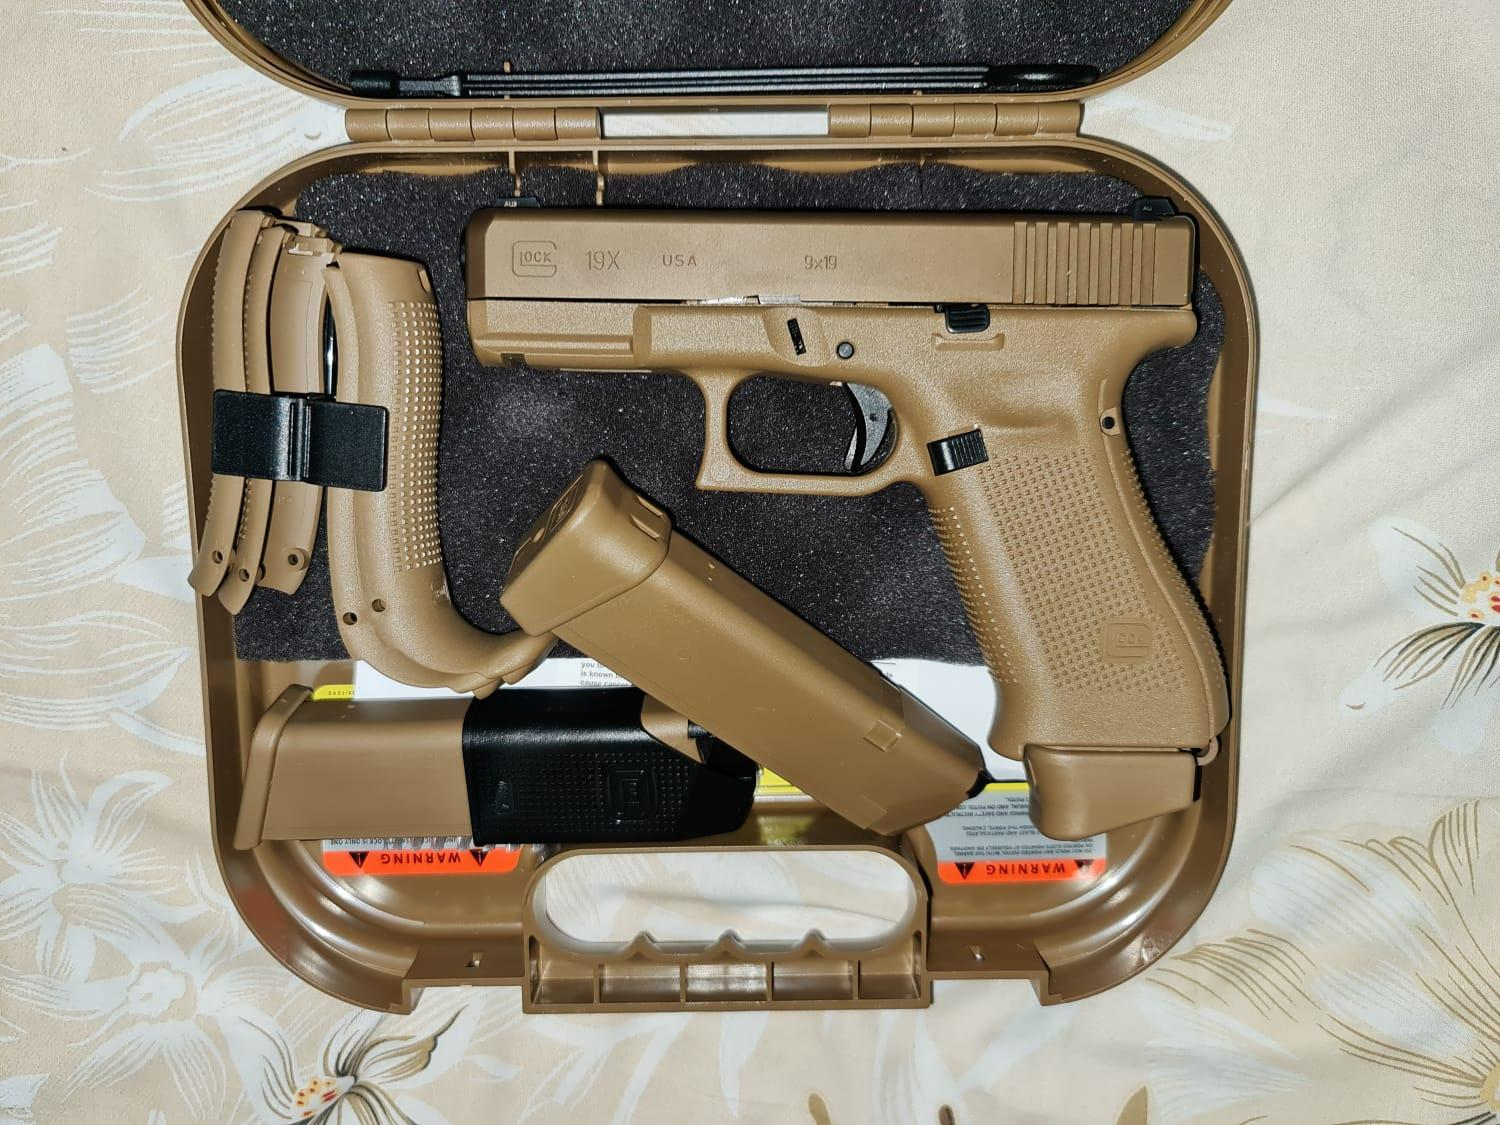weapon: (463, 203, 1227, 839)
